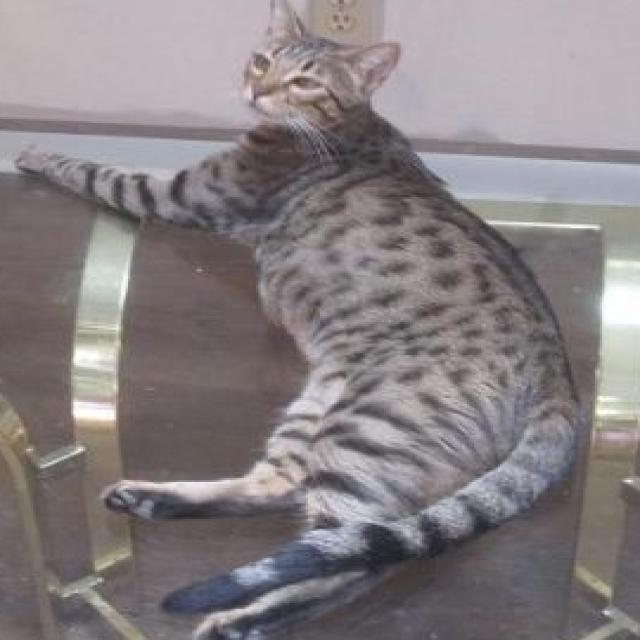Egyptian Mau: (9, 0, 586, 640)
